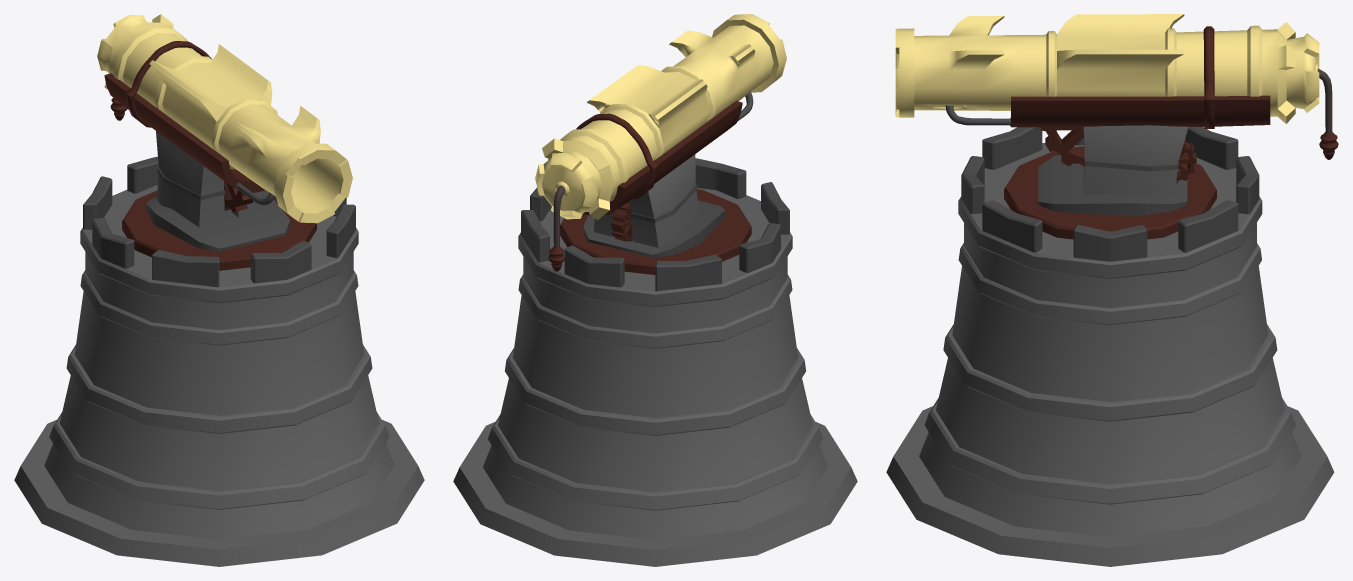
File: Cannon_T4.fbx
The picture shows the model from 3 angles, left to right: view 1: azimuth 30°, elevation 25°; view 2: azimuth 150°, elevation 25°; view 3: azimuth 270°, elevation 25°; orthographic projection. The views are drawn at different scales.
Visible parts, largest first — view 1: CannonTowerBase_T4, CannonTowerBaseReinf_T4, CannonBody_T4, CannonTower_Studs_T4, CannonRotatorTower_T4, CannonTowerRotator_T4, CannonHolder_T4, CannonTowerBase_Holder_T4, CannonReloader_T4, HalfCogWheel_Front_T4; view 2: CannonTowerBase_T4, CannonTowerBaseReinf_T4, CannonBody_T4, CannonTower_Studs_T4, CannonTowerRotator_T4, CannonRotatorTower_T4, CannonHolder_T4, CannonReloader_T4, CannonTowerBase_Holder_T4, CogWheel_Backside_T4; view 3: CannonTowerBase_T4, CannonTowerBaseReinf_T4, CannonBody_T4, CannonTower_Studs_T4, CannonHolder_T4, CannonRotatorTower_T4, CannonTowerRotator_T4, CannonTowerBase_Holder_T4, CannonReloader_T4, HalfCogWheel_Front_T4, RotatorReinforcer_T4, CogWheel_Backside_T4 (+1 smaller).
Boxes of the visible parts, x1,y1,x2,y2 form: CannonTowerBase_T4: (44, 252, 394, 539); CannonTowerBaseReinf_T4: (14, 185, 424, 566); CannonBody_T4: (104, 14, 352, 223); CannonTower_Studs_T4: (83, 156, 355, 287); CannonRotatorTower_T4: (156, 131, 264, 227); CannonTowerRotator_T4: (122, 190, 316, 270); CannonHolder_T4: (104, 41, 265, 192); CannonTowerBase_Holder_T4: (146, 190, 290, 251); CannonReloader_T4: (97, 15, 147, 73); HalfCogWheel_Front_T4: (224, 181, 253, 212); CannonTowerBase_T4: (483, 256, 827, 539); CannonTowerBaseReinf_T4: (453, 188, 857, 566); CannonBody_T4: (542, 14, 786, 219); CannonTower_Studs_T4: (521, 158, 789, 291); CannonTowerRotator_T4: (560, 189, 751, 274); CannonRotatorTower_T4: (594, 154, 699, 247); CannonHolder_T4: (576, 100, 742, 215); CannonReloader_T4: (535, 152, 601, 219); CannonTowerBase_Holder_T4: (583, 200, 725, 257); CogWheel_Backside_T4: (611, 201, 632, 241); CannonTowerBase_T4: (919, 223, 1301, 537); CannonTowerBaseReinf_T4: (886, 143, 1334, 566); CannonBody_T4: (895, 14, 1295, 123); CannonTower_Studs_T4: (961, 127, 1259, 261); CannonHolder_T4: (1011, 26, 1270, 128); CannonRotatorTower_T4: (1083, 125, 1188, 198); CannonTowerRotator_T4: (1004, 146, 1216, 239); CannonTowerBase_Holder_T4: (1038, 155, 1187, 216); CannonReloader_T4: (1286, 33, 1319, 112); HalfCogWheel_Front_T4: (1041, 127, 1084, 167); RotatorReinforcer_T4: (1084, 148, 1178, 171); CogWheel_Backside_T4: (1176, 138, 1196, 183).
Bounding box in the file's own units: 181 × 198 × 183.
